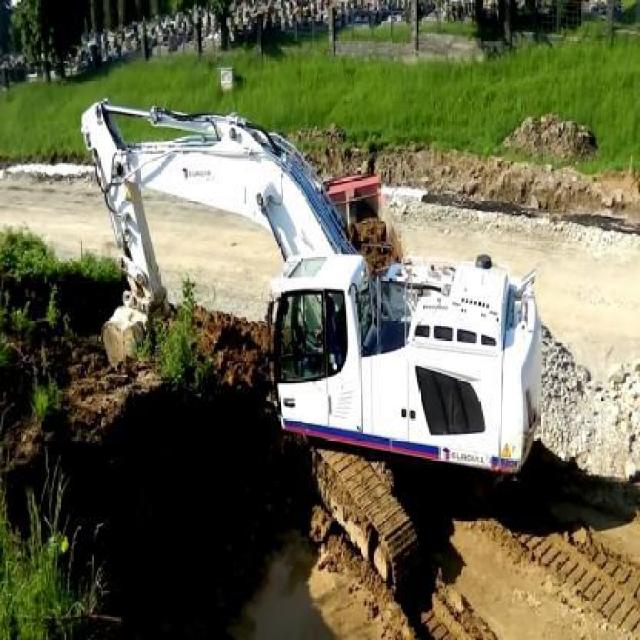Excavator: (67, 84, 542, 591)
